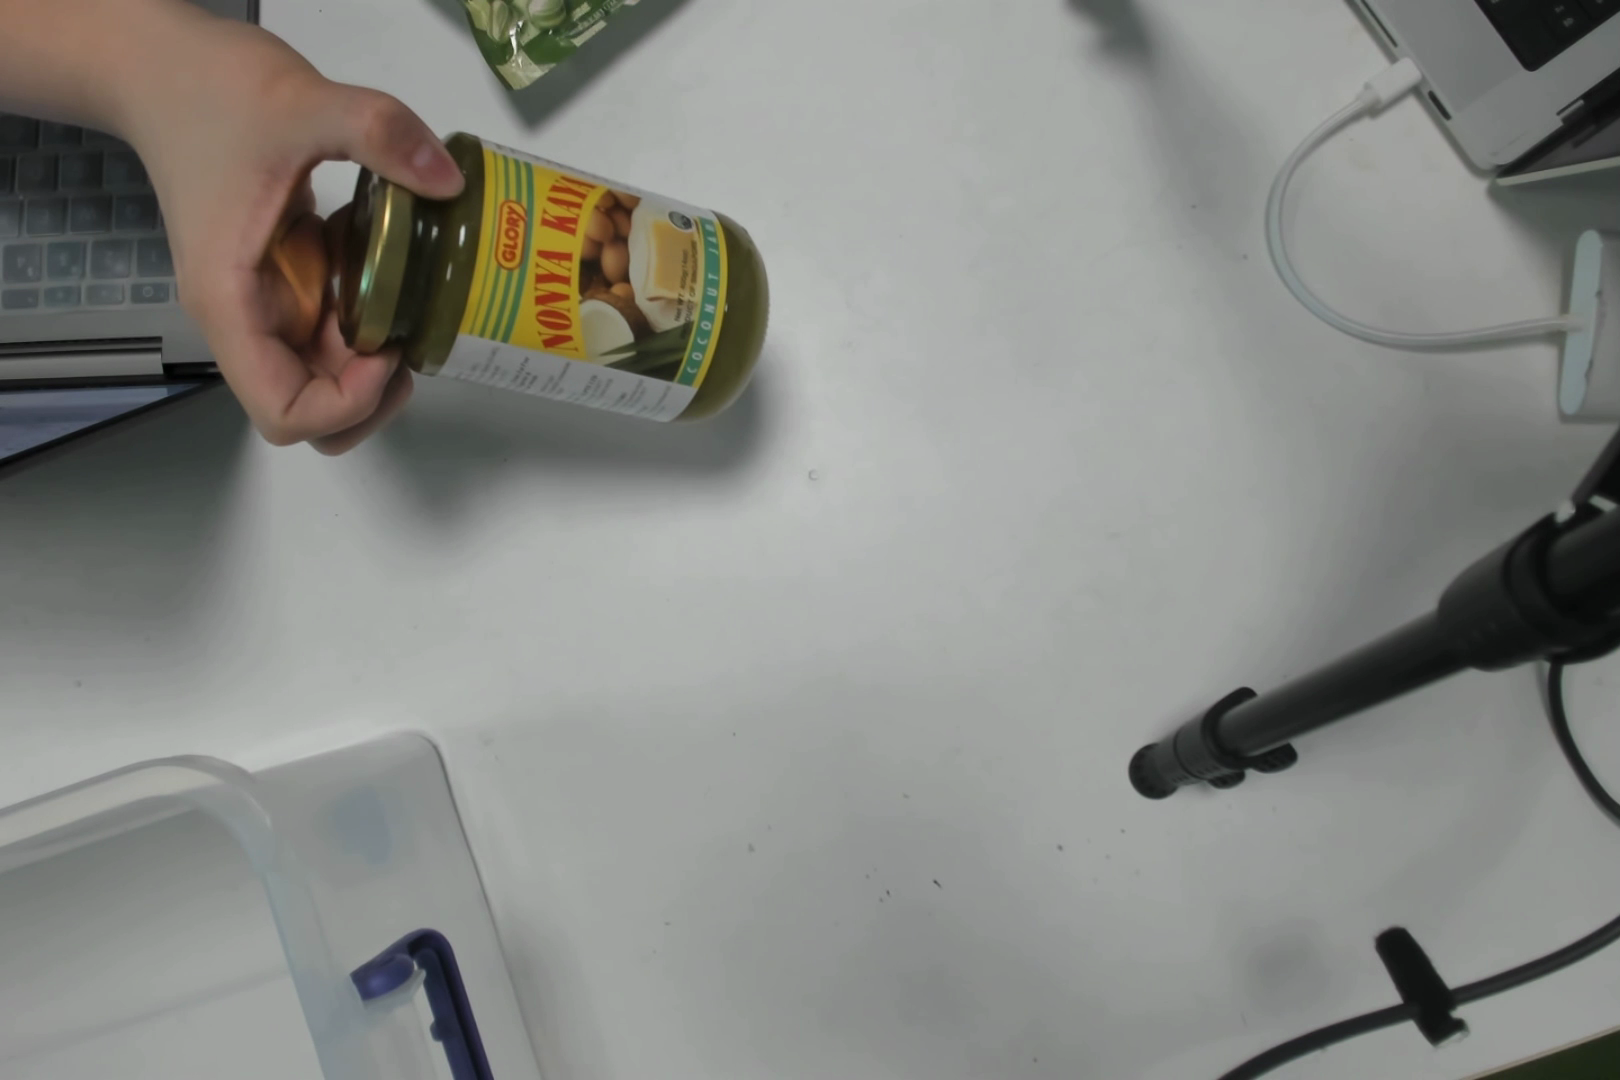Kaya_400-499g_Halal_NonHealthy: (352, 135, 781, 412)
